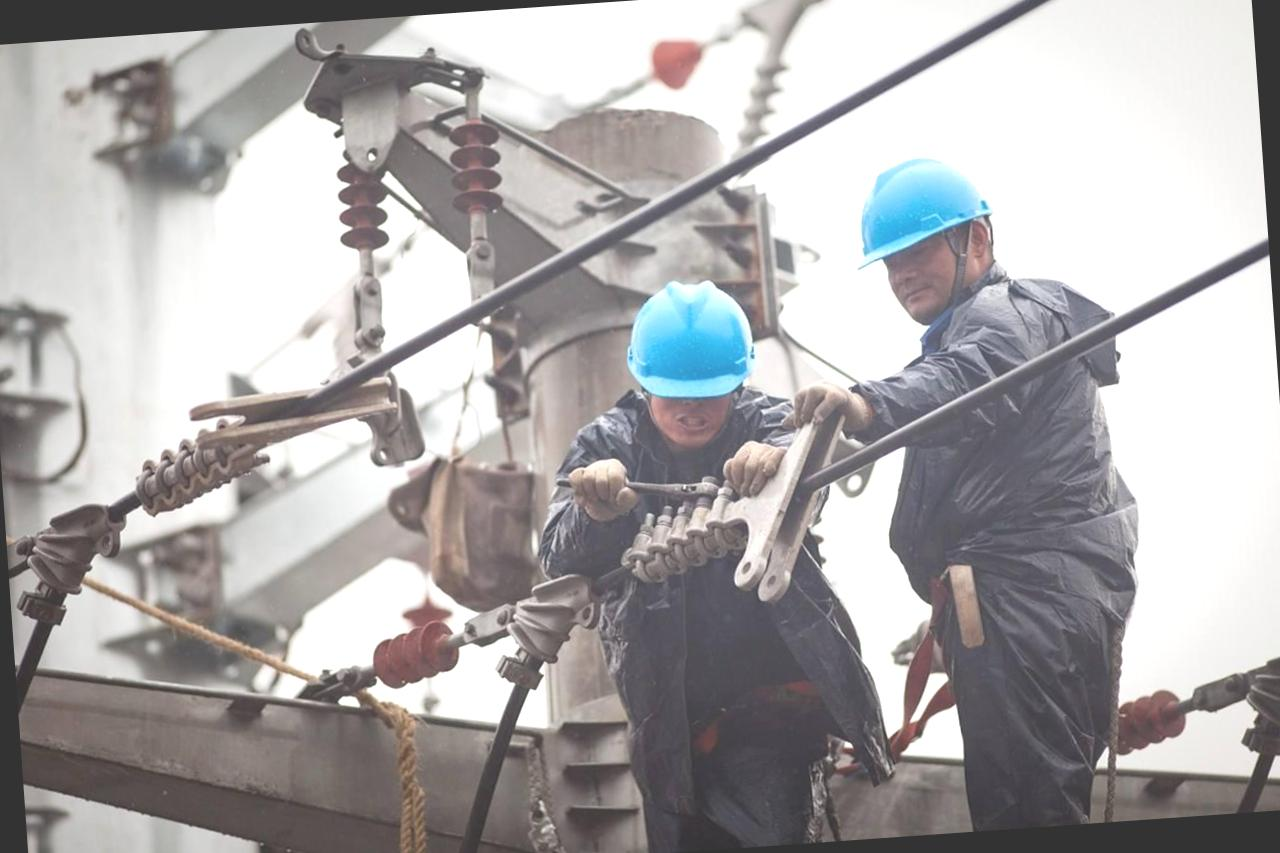helmet: (841, 142, 999, 283), (621, 274, 751, 413)
no_vest: (895, 278, 1120, 570)
person: (824, 133, 1164, 838), (521, 265, 908, 853)
